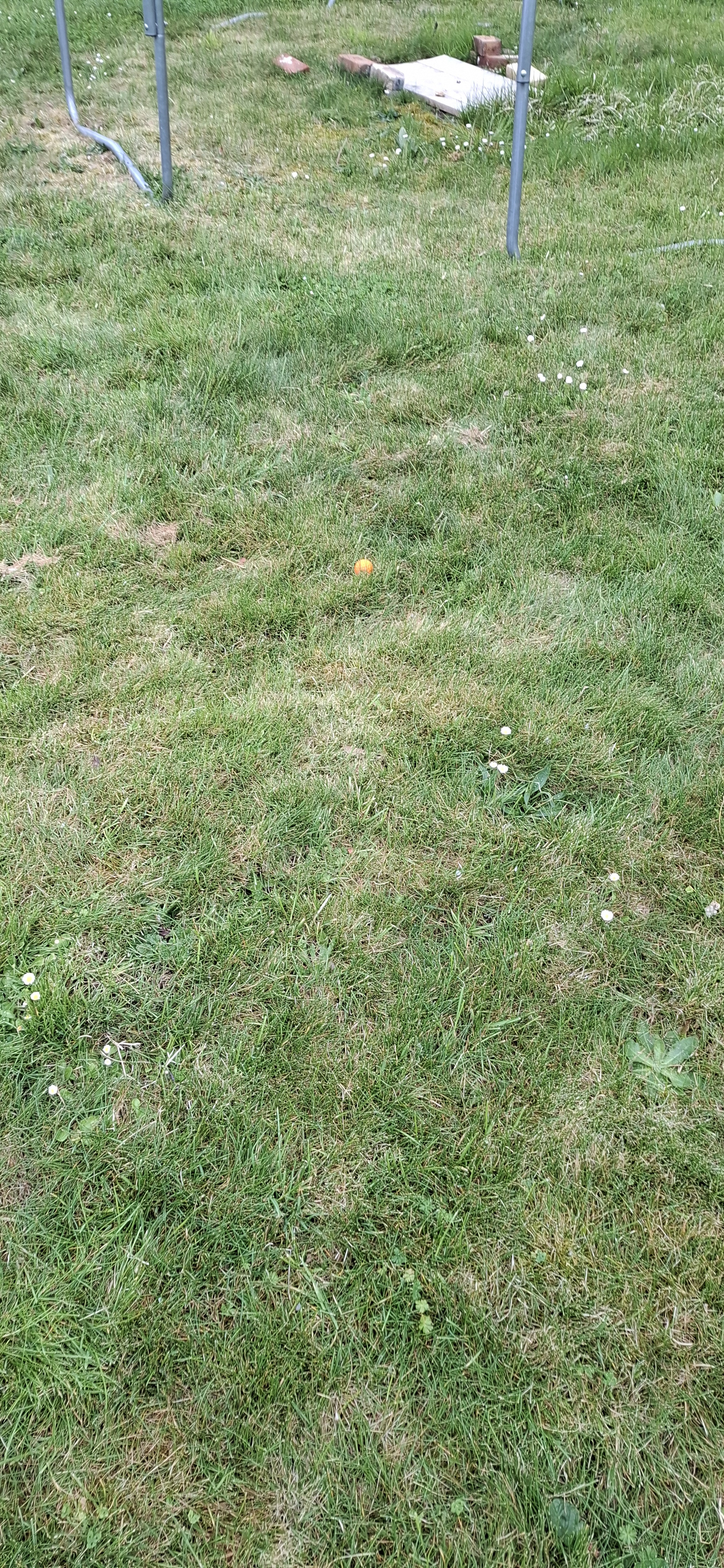ball: (258, 760, 266, 801)
